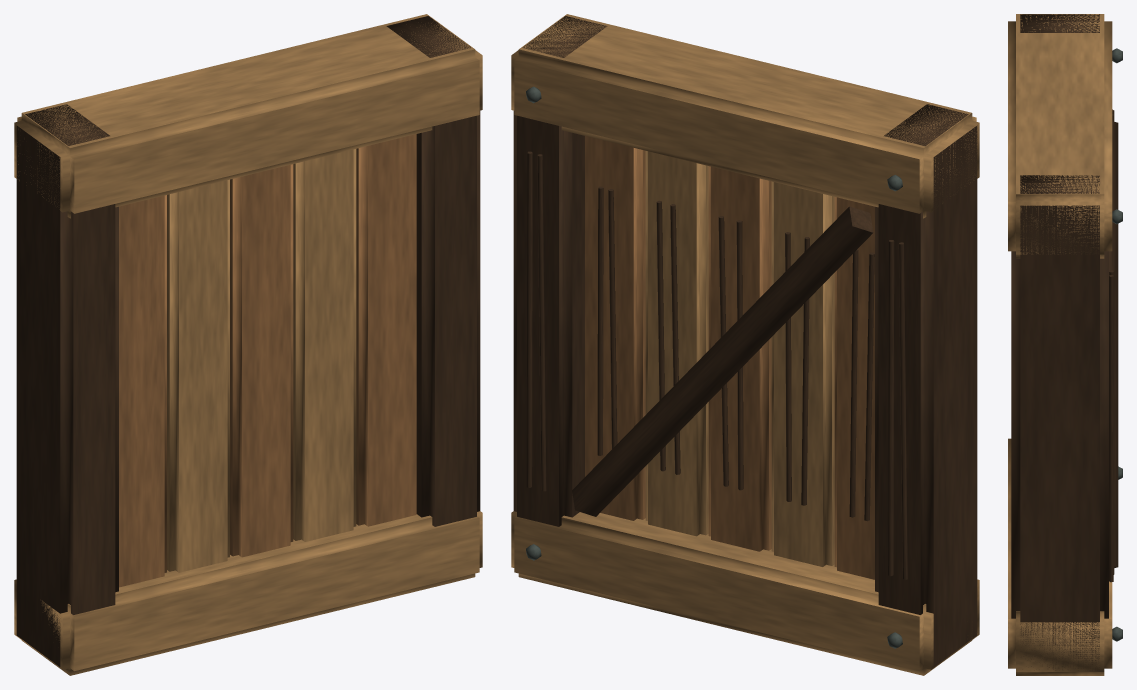
The model's file is plank-wall-3.fbx.
3 renders of one model, left to right at view 1: azimuth 30°, elevation 25°; view 2: azimuth 150°, elevation 25°; view 3: azimuth 270°, elevation 25°, orthographic. The views are drawn at different scales.
Visible parts, largest first — view 1: plank-wall-3__Geometry; view 2: plank-wall-3__Geometry; view 3: plank-wall-3__Geometry.
Boxes of the visible parts, x1,y1,x2,y2 form: plank-wall-3__Geometry: [14, 14, 482, 675]; plank-wall-3__Geometry: [511, 14, 979, 675]; plank-wall-3__Geometry: [1008, 14, 1122, 675].
Bounding box in the file's own units: 1 × 1.2 × 0.2591.
1 material, 1 textured.
